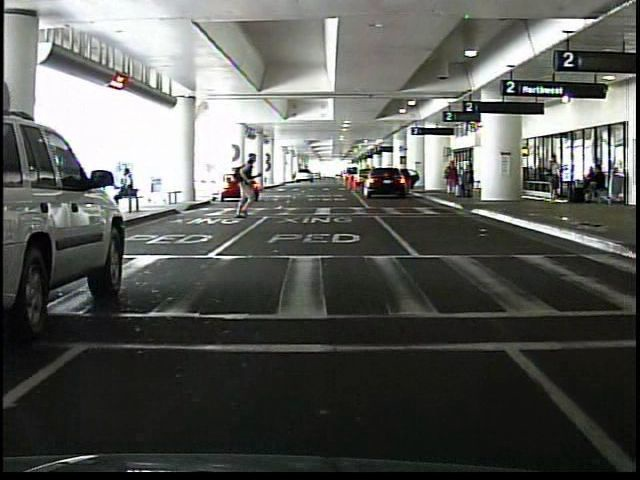person: (226, 153, 263, 221), (116, 167, 140, 208), (442, 160, 461, 199), (547, 153, 561, 201), (464, 165, 465, 199)
